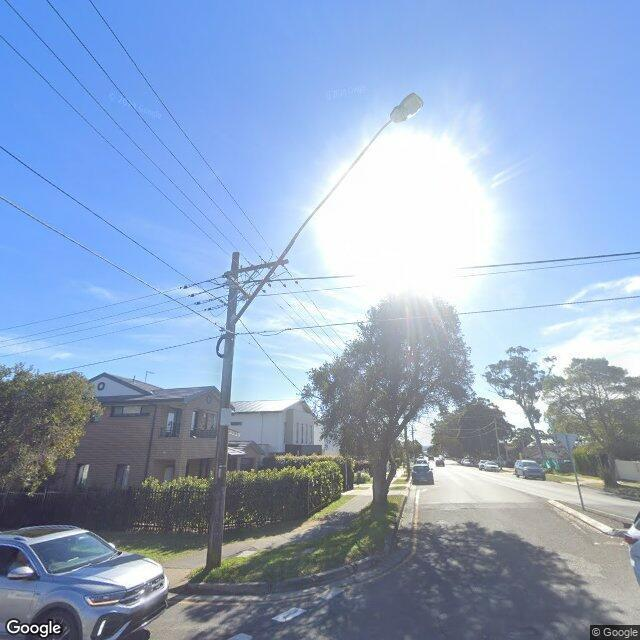crossarm: (223, 259, 289, 278), (224, 272, 252, 300)
streetlight: (237, 90, 424, 331)
timber-pole: (206, 253, 240, 568)
